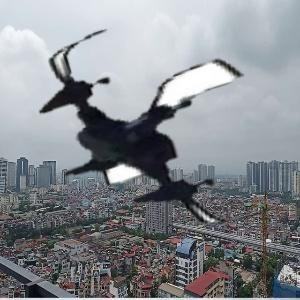drone: (38, 5, 287, 254)
